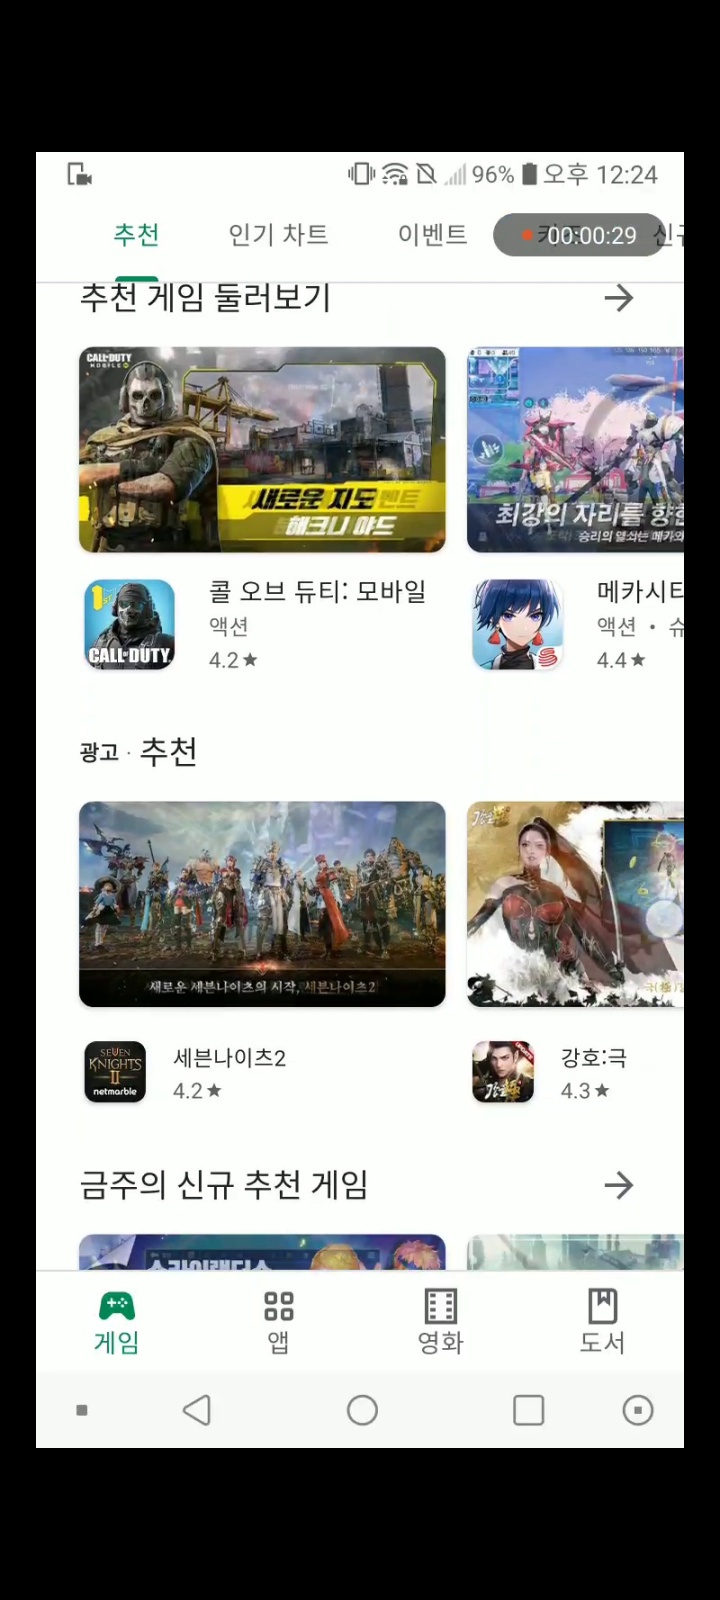Cursor: (639, 898, 684, 943)
